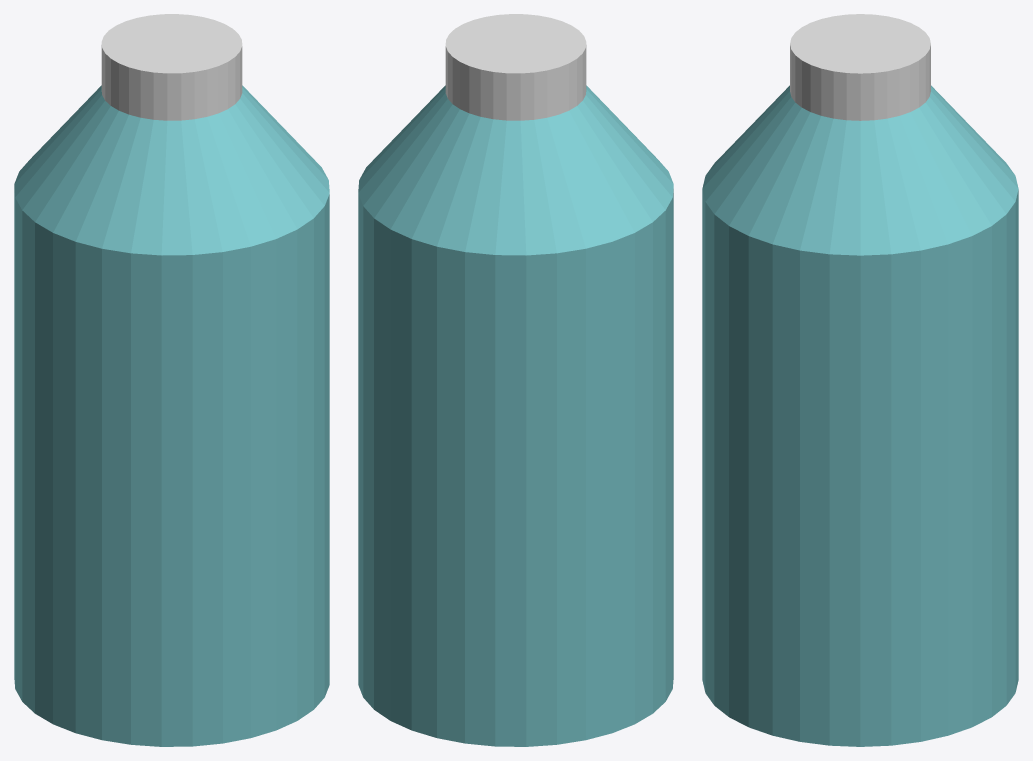
The model's file is water.fbx.
3 renders of one model, left to right at view 1: azimuth 30°, elevation 25°; view 2: azimuth 150°, elevation 25°; view 3: azimuth 270°, elevation 25°, orthographic.
Parts seen in each view (by area): view 1: Cylinder; view 2: Cylinder; view 3: Cylinder.
Part boxes in pixels (x1,y1,x2,y2): Cylinder: (14,14,329,746); Cylinder: (358,14,673,746); Cylinder: (702,14,1018,746).
Size of the model in its own units: 349 by 775 by 349.
